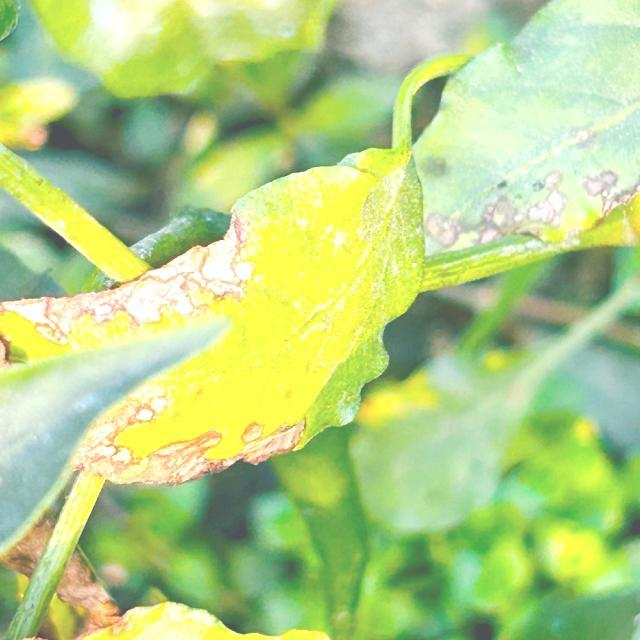Bercak Daun Serkospora: (0, 145, 428, 473)
